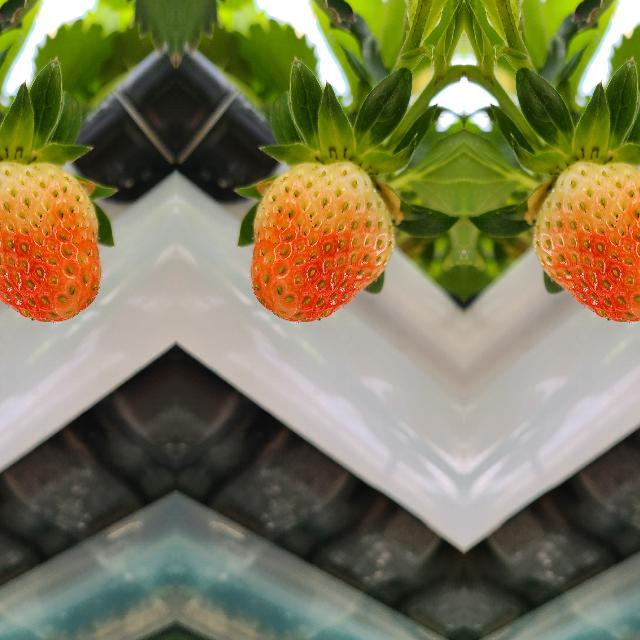Health_75: (248, 161, 394, 325), (531, 161, 640, 325), (0, 161, 102, 325)
